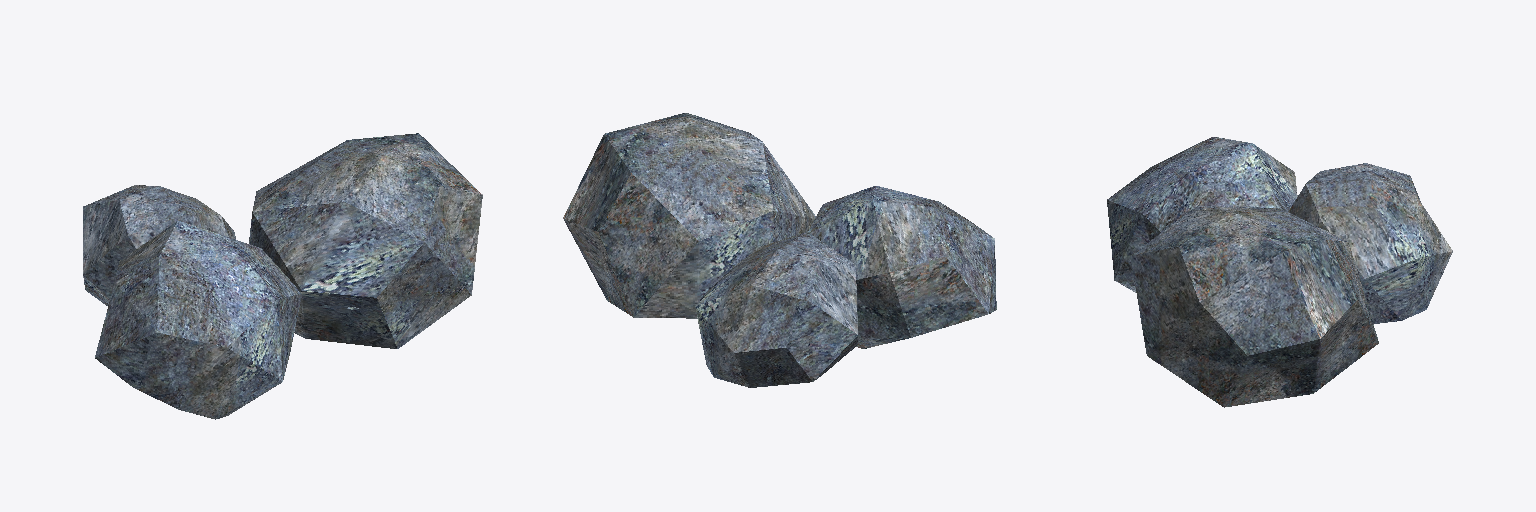
3 renders of one model, left to right at view 1: azimuth 30°, elevation 25°; view 2: azimuth 150°, elevation 25°; view 3: azimuth 270°, elevation 25°, orthographic.
Visible parts, largest first — view 1: polySurface1; view 2: polySurface1; view 3: polySurface1.
Part boxes in pixels (bbox=[...]): polySurface1: bbox=[83, 133, 482, 419]; polySurface1: bbox=[563, 113, 996, 387]; polySurface1: bbox=[1107, 137, 1452, 407].
Bounding box in the file's own units: 15.74 × 7.29 × 12.35.
Materials: 1 (1 with a texture image).